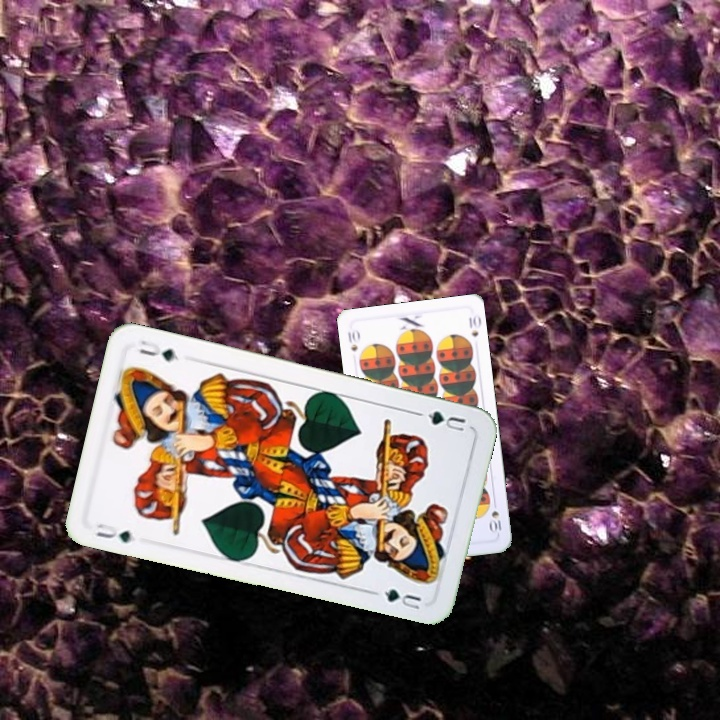GU: (423, 407, 468, 435), (91, 519, 138, 545)
S10: (486, 496, 504, 536), (344, 325, 362, 354)
